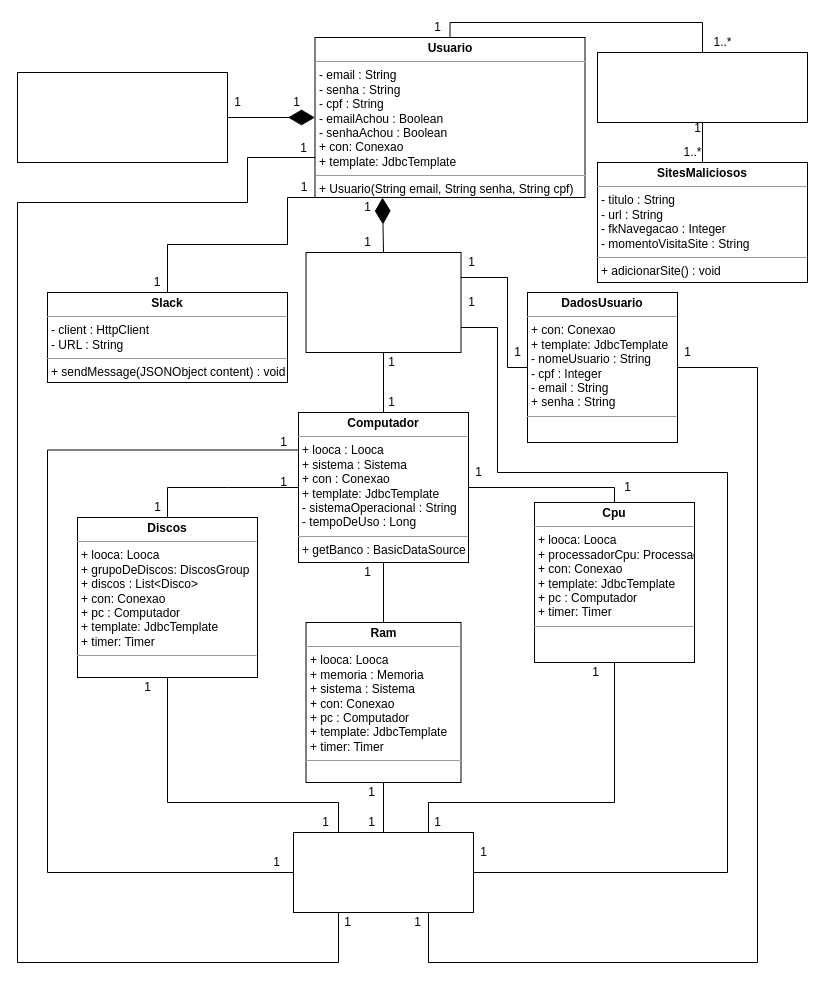
This 825x981 diagram has some shape labels left out. Here are the shapes that lost their labels. From the top down, the centre of each, then its label:
pixel 702 87: Dependente - nomeDependente : String
pixel 122 117: ScriptPython + runScript() : void + printResults(Process process) : void
pixel 383 302: Login + con: Conexao + template: JdbcTemplate + python: ScriptPython
pixel 383 872: Conexao + banco : BasicDataSource + getBanco : BasicDataSource
